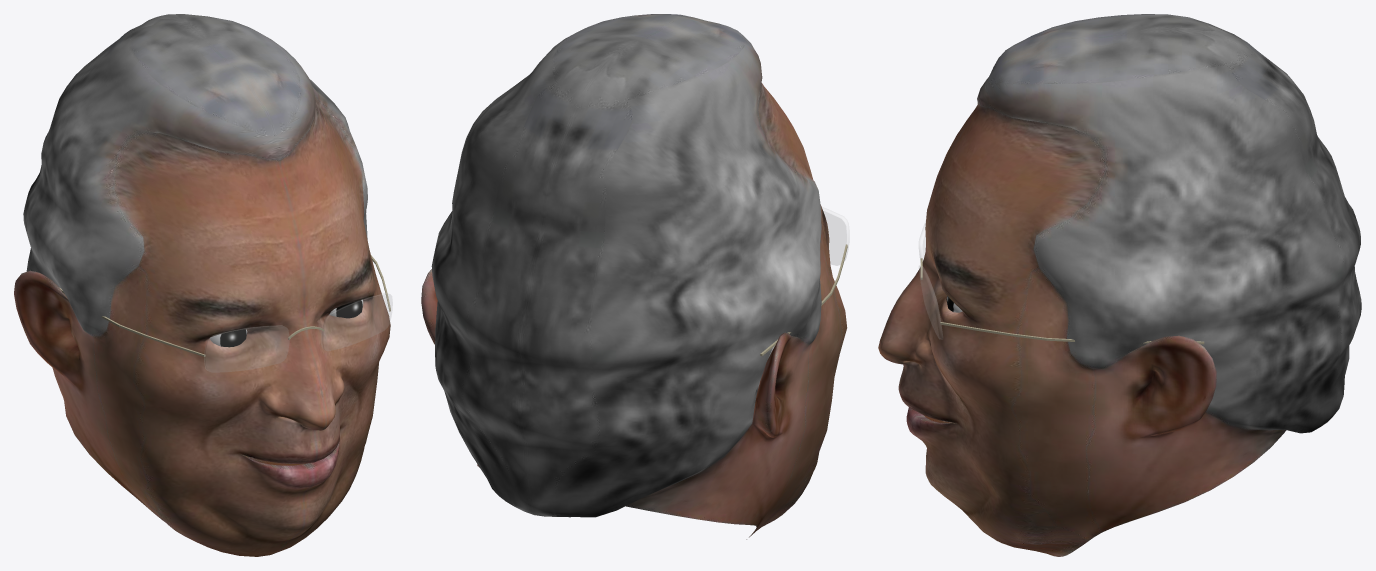
Rendered from antonio_costa_portuguese_prime_minister.glb.
3 views of the same model, side by side, from view 1: azimuth 30°, elevation 25°; view 2: azimuth 150°, elevation 25°; view 3: azimuth 270°, elevation 25° (orthographic). The views are drawn at different scales.
Visible parts, largest first — view 1: antoniocosta_0, lentes_2, olhos_1, armacoes_3; view 2: antoniocosta_0, lentes_2; view 3: antoniocosta_0, lentes_2.
Part boxes in pixels (box(x1,y1,x2,y2)): antoniocosta_0: box(14, 14, 390, 556); lentes_2: box(204, 293, 392, 372); olhos_1: box(210, 299, 363, 347); armacoes_3: box(59, 255, 390, 356); antoniocosta_0: box(421, 14, 847, 539); lentes_2: box(822, 207, 849, 265); antoniocosta_0: box(878, 14, 1361, 556); lentes_2: box(919, 221, 942, 339).
Bounding box in the file's own units: 3.88 × 5.78 × 4.85.
Materials: 4 (2 with a texture image).
